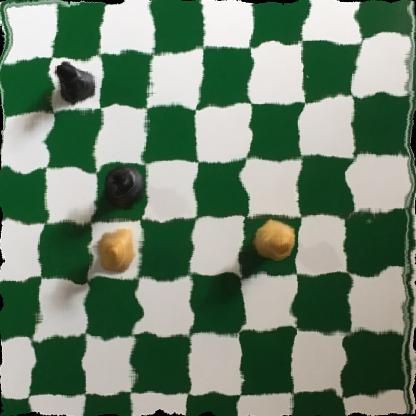black-bishop: (100, 164, 145, 215), (54, 58, 98, 110)
white-bishop: (246, 217, 298, 266), (92, 226, 139, 271)
